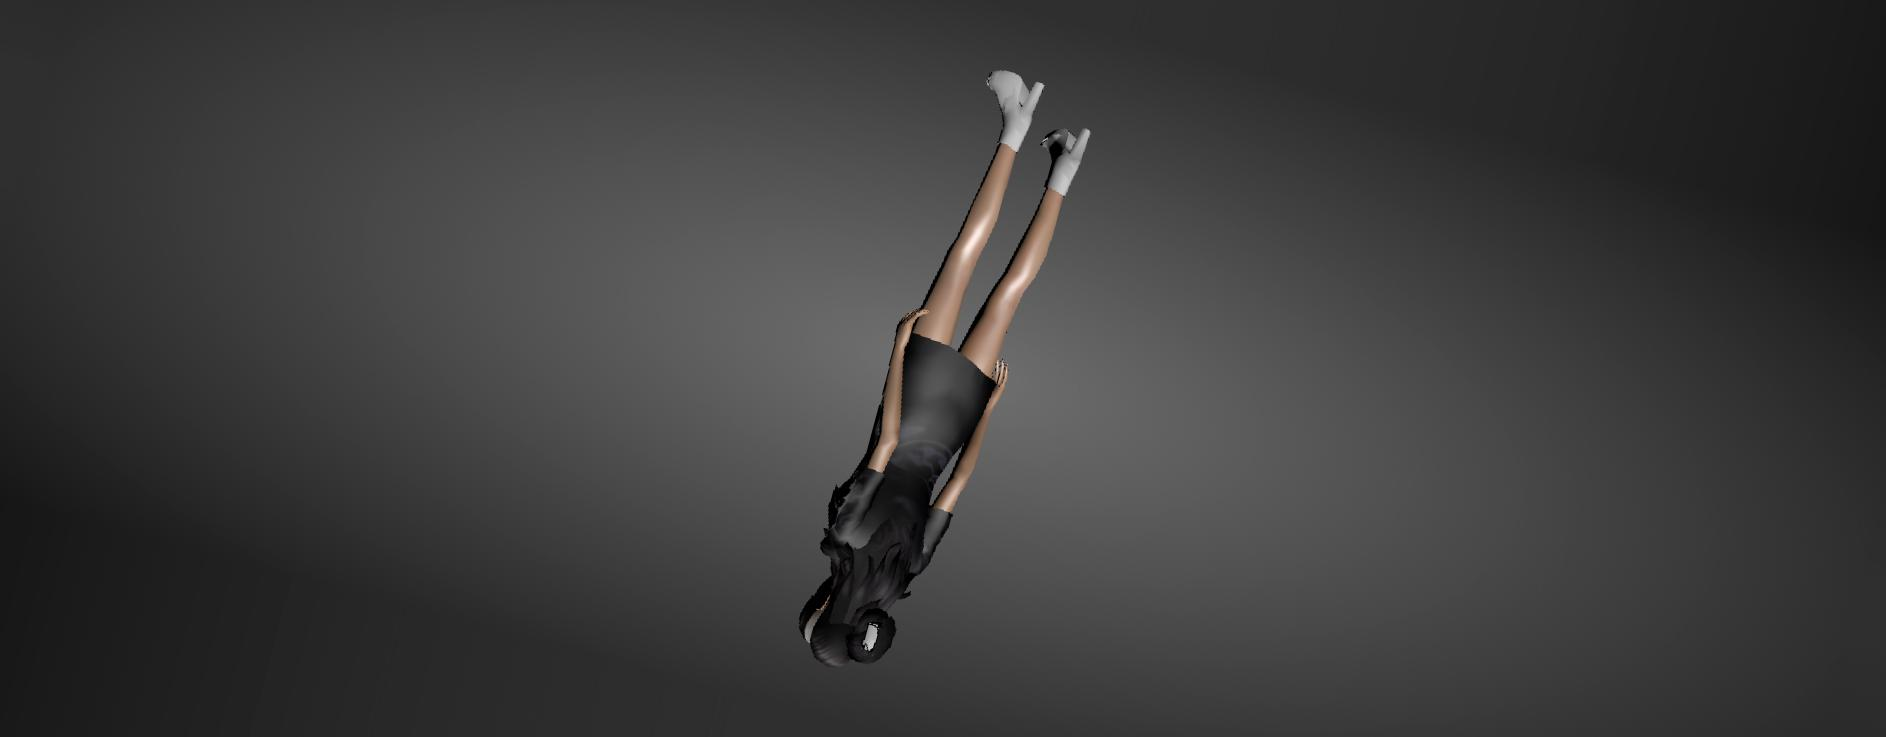clip: (862, 617, 885, 656)
